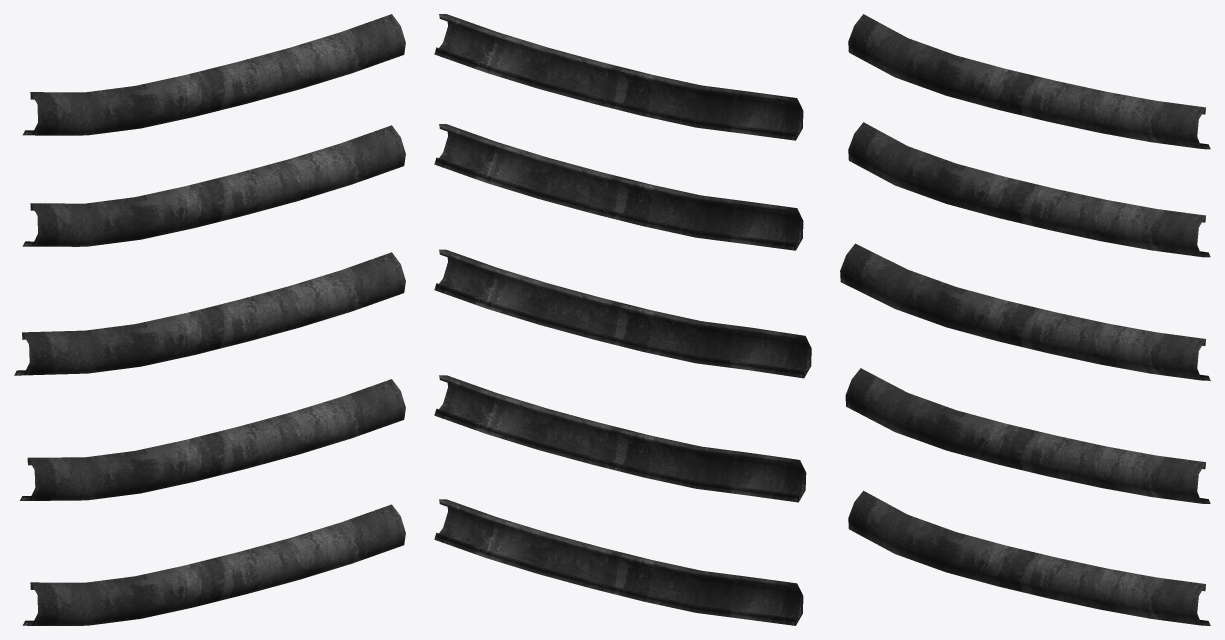
The model's file is Pipes2.fbx.
3 renders of one model, left to right at view 1: azimuth 30°, elevation 25°; view 2: azimuth 150°, elevation 25°; view 3: azimuth 330°, elevation 25°, orthographic. The views are drawn at different scales.
Visible parts, largest first — view 1: SmartCombine_4; view 2: SmartCombine_4; view 3: SmartCombine_4.
Boxes of the visible parts, bbox=[...] form: SmartCombine_4: bbox=[14, 14, 405, 625]; SmartCombine_4: bbox=[434, 14, 811, 625]; SmartCombine_4: bbox=[840, 14, 1210, 625].
Bounding box in the file's own units: 77.72 × 108 × 5.73.
